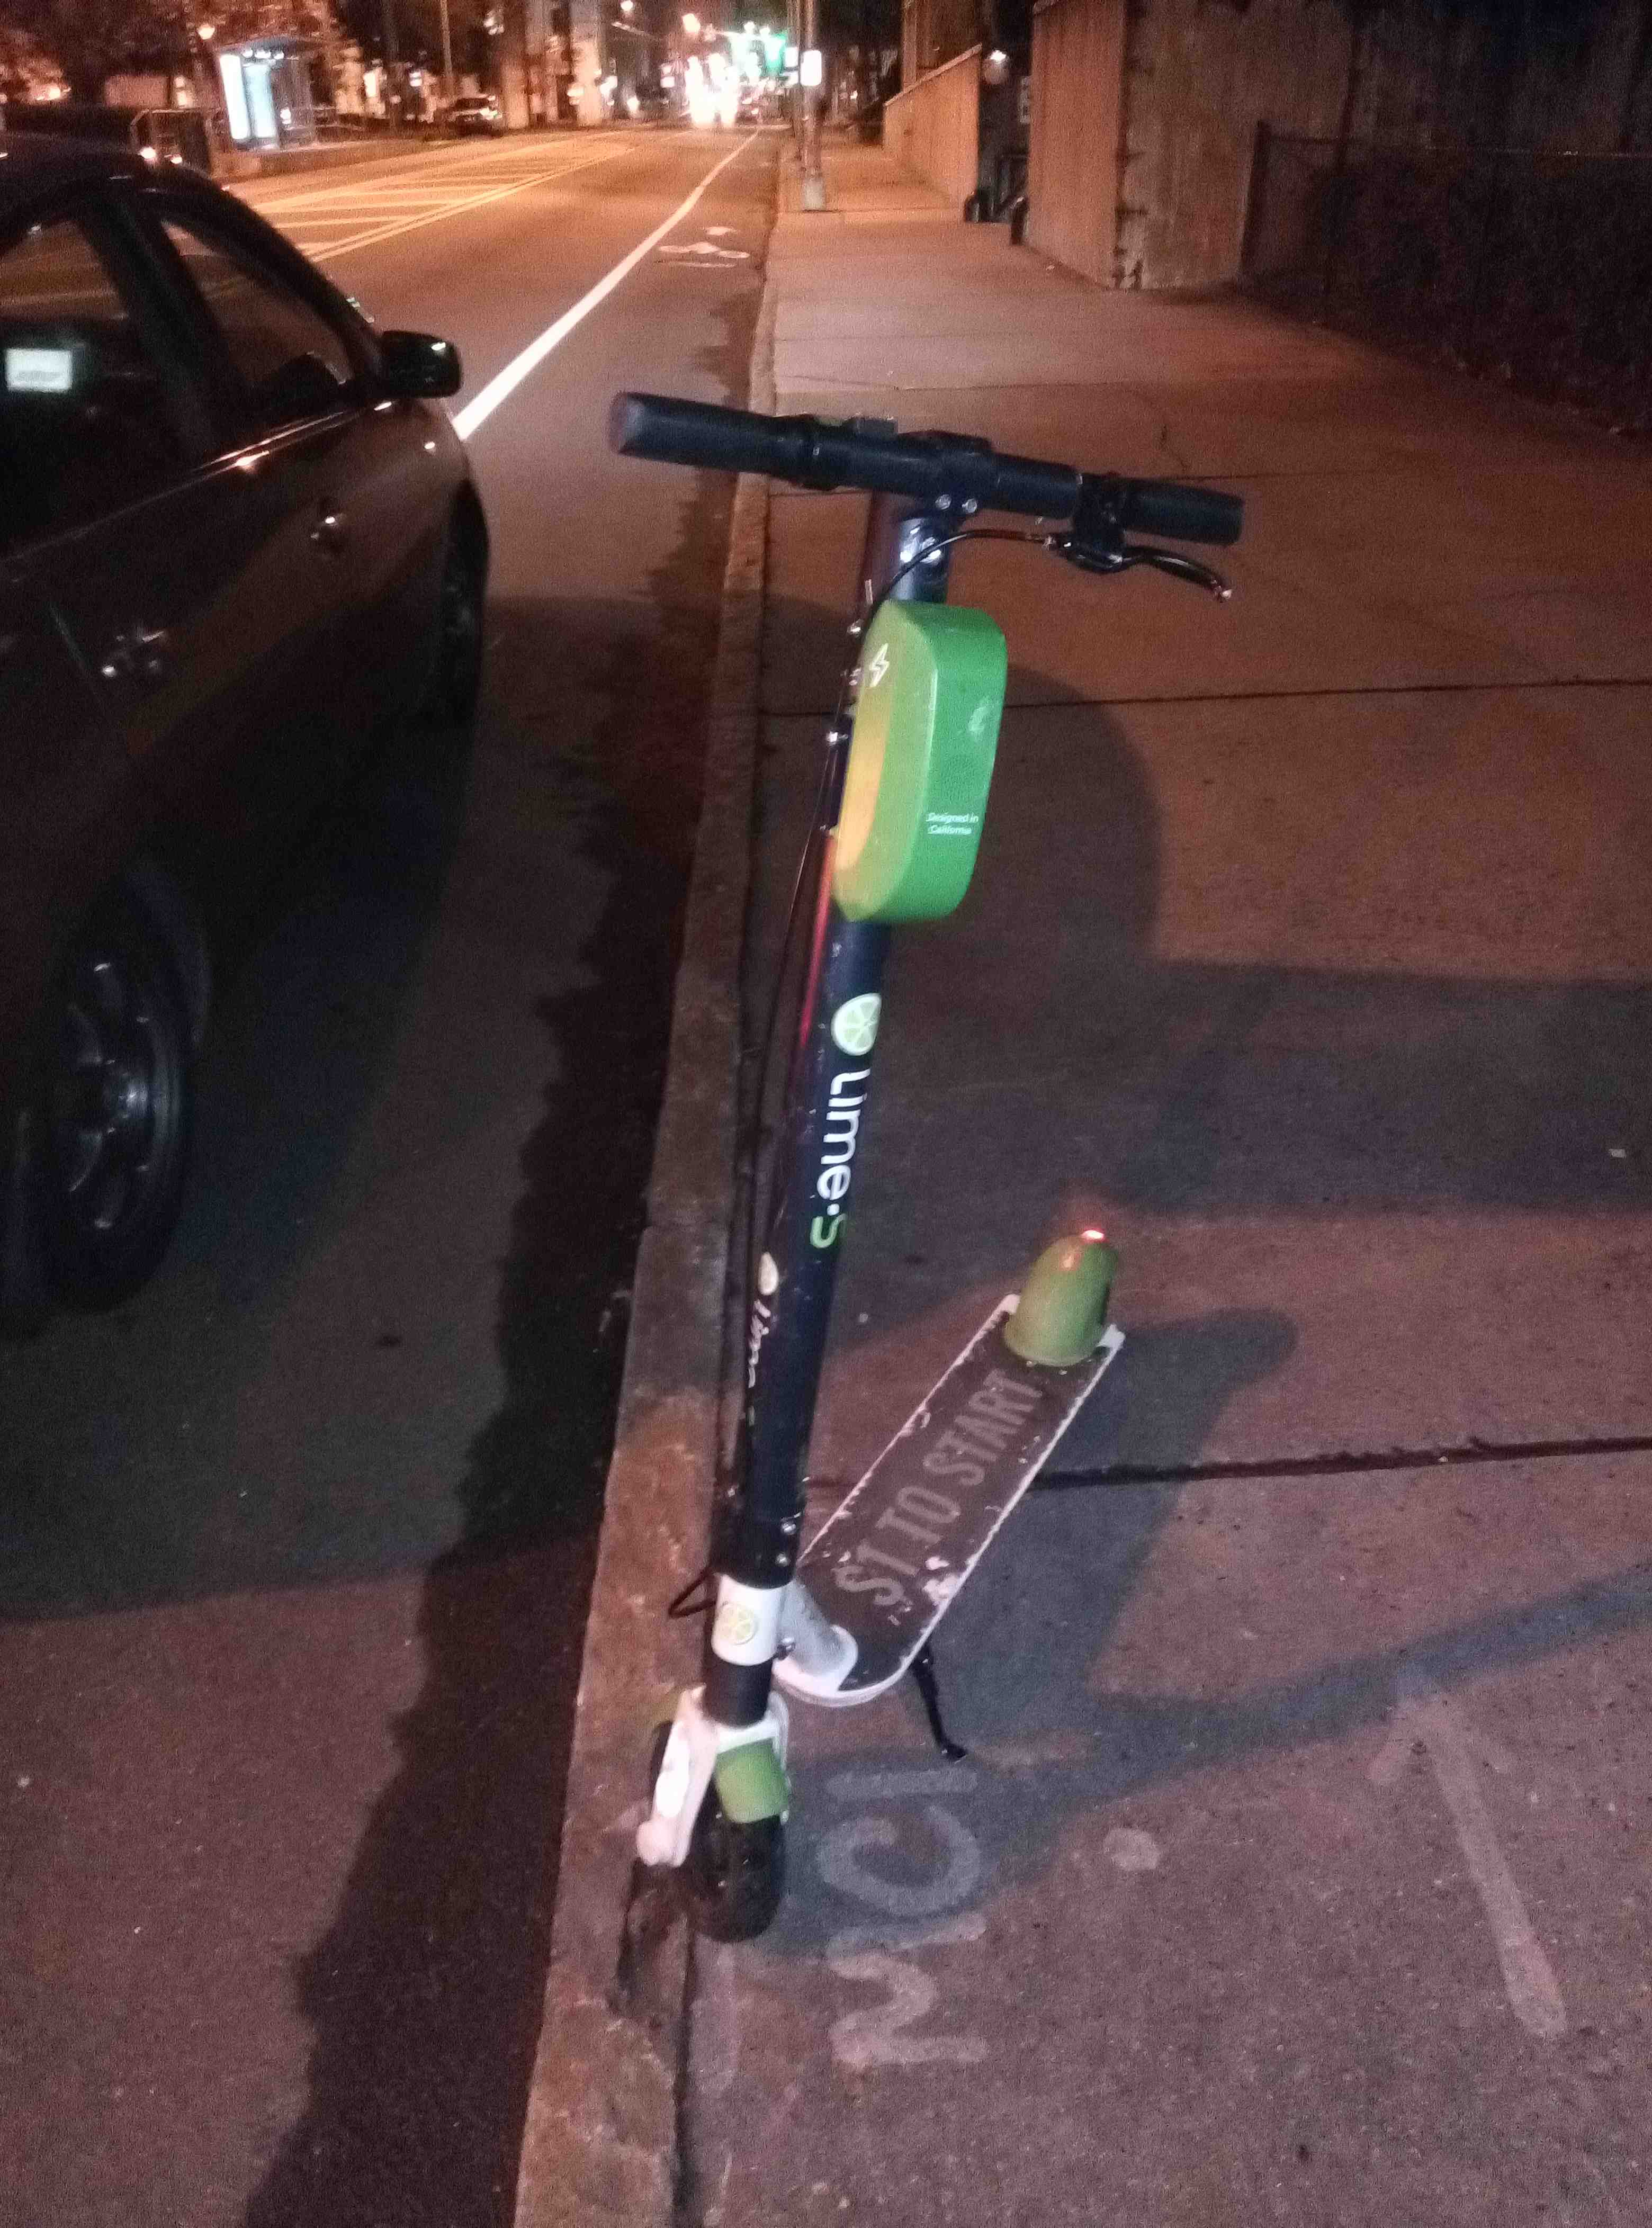too close: (482, 1612, 991, 2042)
